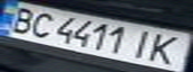1: (106, 24, 130, 56), (87, 20, 109, 52)
4: (48, 15, 78, 44), (69, 17, 93, 48)
B: (0, 3, 42, 34)
C: (21, 10, 60, 39)
I: (127, 27, 160, 61)
K: (145, 32, 190, 66)
